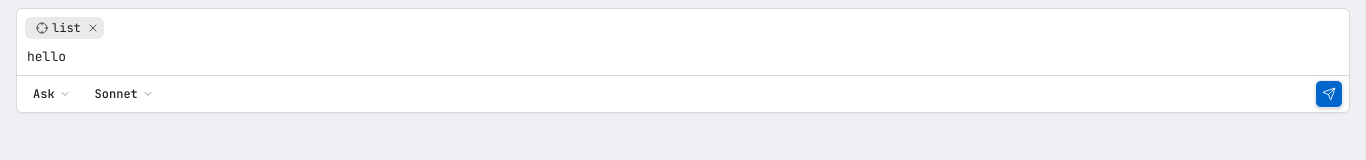
Scenario: Composer › shows Stop while the turn runs and cancels it
Press Enter in the field with class "cm-content", box [27,48,66,65]
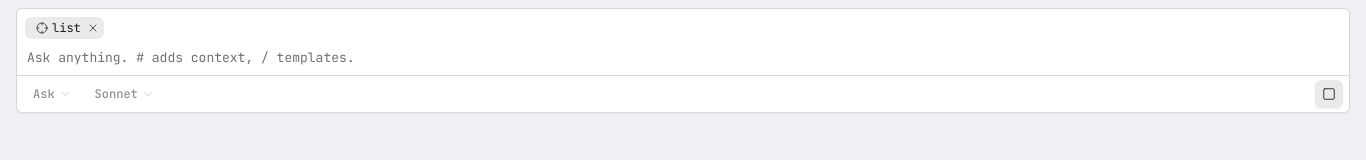
Click the button named "Stop".
click(1329, 94)  # box [1315,80,1343,108]
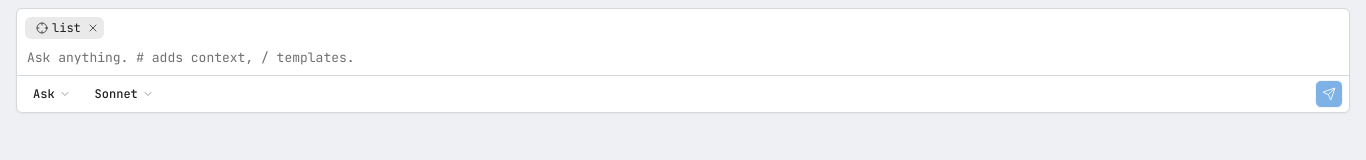
Result: the button named "Send" is shown at [1315,80,1343,108]
